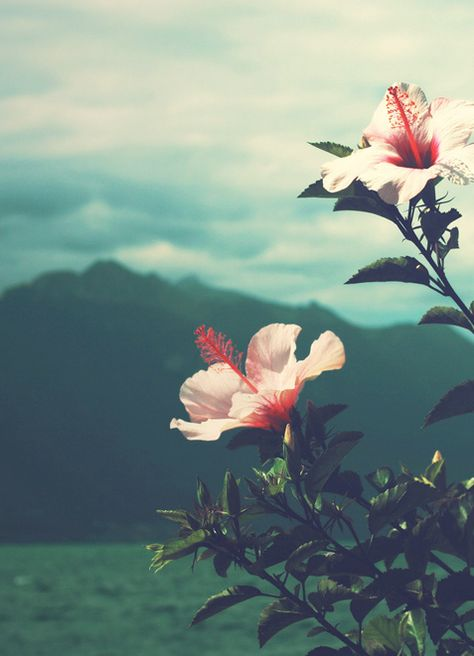Hibiscus: (316, 77, 471, 248), (171, 311, 341, 461)
